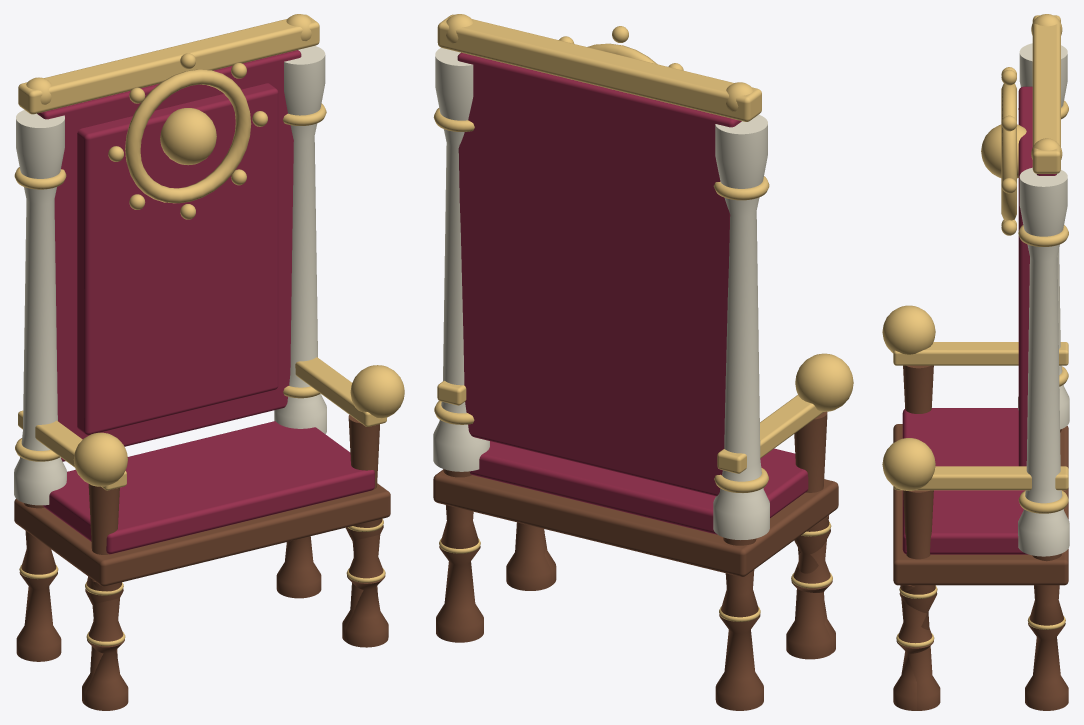
The model's file is royal-court-and-throne-palace-royal-throne-5a66abf1__29380.glb.
3 views of the same model, side by side, from view 1: azimuth 30°, elevation 25°; view 2: azimuth 150°, elevation 25°; view 3: azimuth 270°, elevation 25° (orthographic). The views are drawn at different scales.
Visible parts, largest first — view 1: royal-throne; view 2: royal-throne; view 3: royal-throne.
Part boxes in pixels (box(x1,y1,x2,y2)): royal-throne: box(14, 14, 404, 710); royal-throne: box(433, 14, 853, 710); royal-throne: box(882, 14, 1069, 710).
Size of the model in its own units: 1.17 by 2 by 0.5975.
